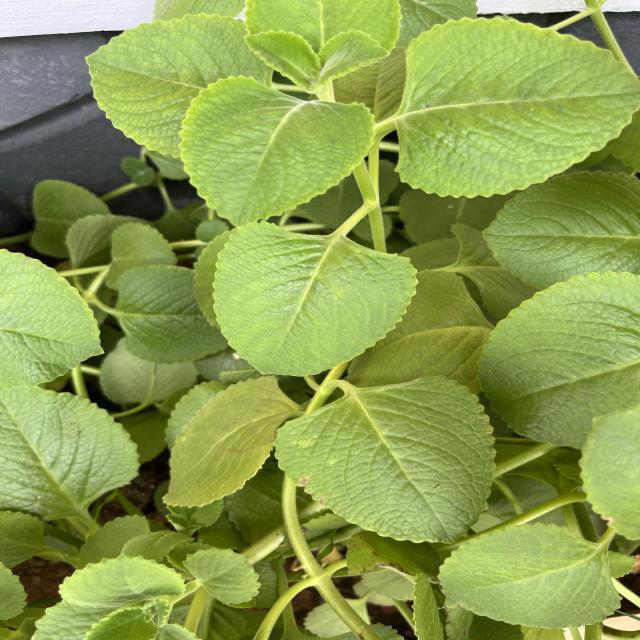Plectranthus barbatus: (393, 13, 640, 202), (270, 374, 497, 546), (210, 217, 422, 378), (178, 74, 375, 224), (477, 268, 640, 449), (80, 11, 252, 159), (436, 520, 626, 632), (476, 168, 640, 288), (0, 384, 143, 520), (161, 374, 285, 509), (118, 263, 226, 360), (184, 547, 264, 606)
